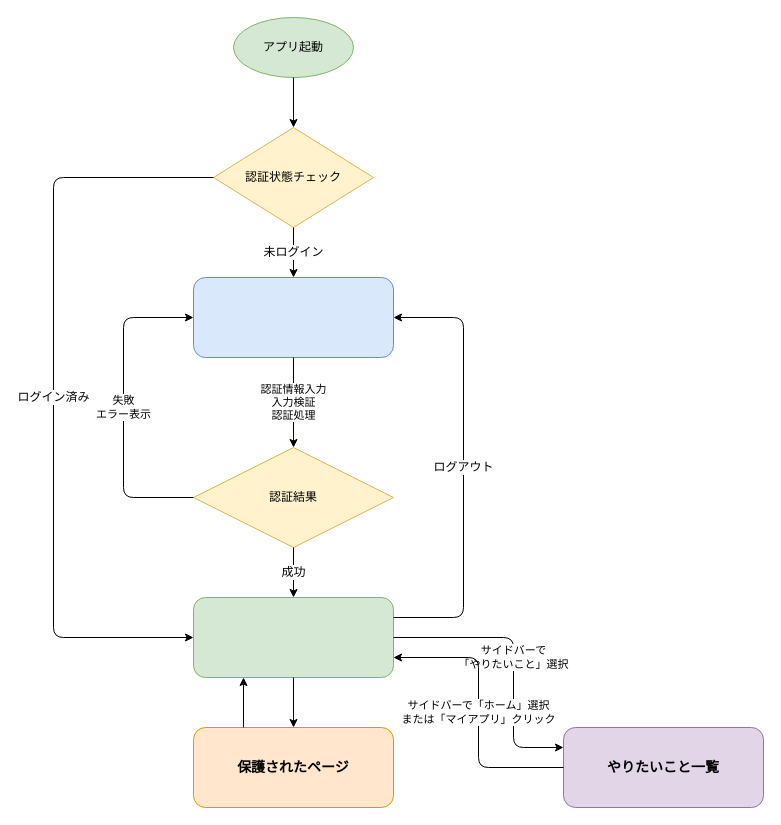
Image size: 781x825. Some labels were removed from this diagram. Here are the shapes that lost their labels. From the top down, the box of each, then its label:
(192, 276, 394, 358): ログインページ
(192, 596, 394, 678): ダッシュボード （ホーム）
